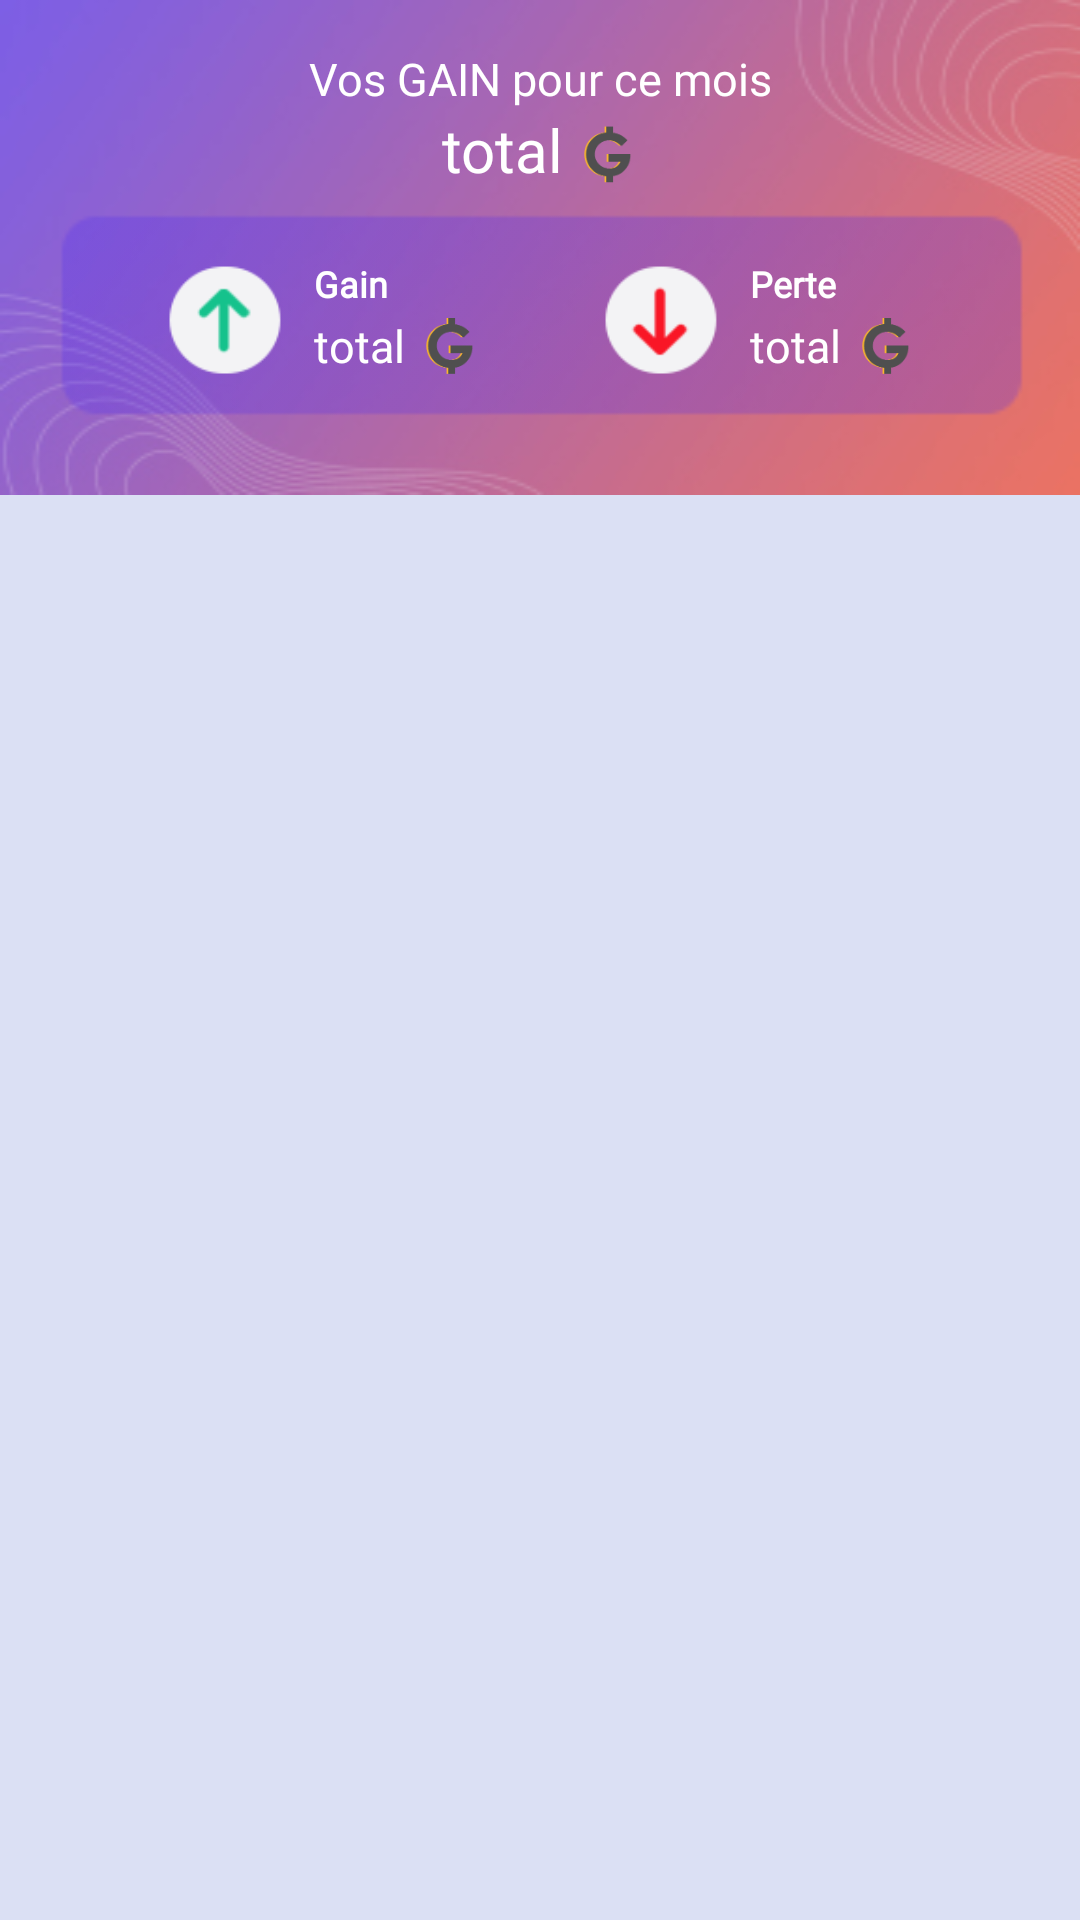

Where to tap for icons on this 1080w x 1920h app screen, as (x,y):
expense down: (661,320)
income up: (225,320)
money: (607,154), (449,346), (885,346)
